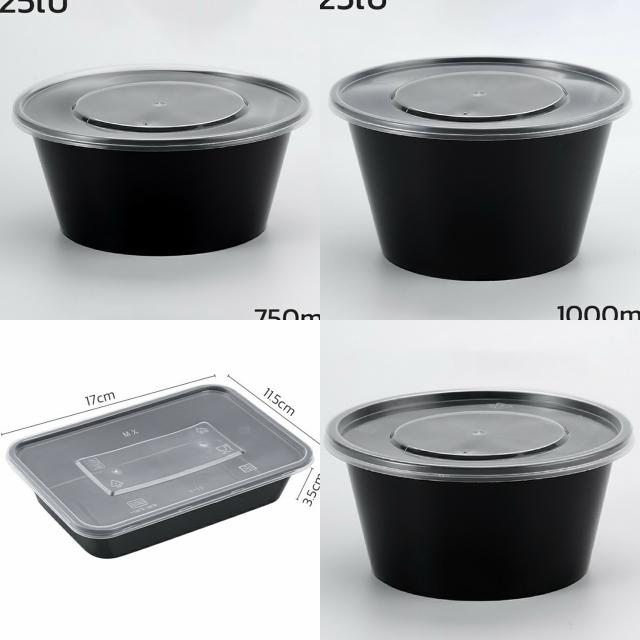Single-Use-Plastic: (330, 56, 631, 280), (325, 390, 632, 600), (14, 66, 309, 254), (8, 385, 311, 557)
